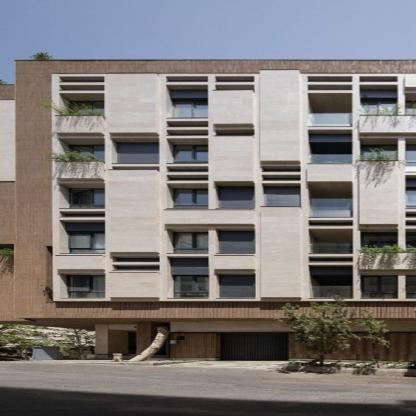Building Outline: (0, 60, 416, 361)
Door: (221, 333, 289, 361)
Facade: (0, 85, 416, 361)
Floor: (0, 170, 416, 217), (0, 221, 416, 262), (0, 266, 416, 302), (0, 131, 416, 167)
Floor Slab: (0, 302, 416, 306), (0, 262, 416, 266), (0, 217, 416, 221), (0, 127, 416, 131), (0, 167, 416, 171)
Ground Floor: (94, 306, 416, 361)
Pillar: (136, 321, 152, 355), (94, 324, 108, 354)
Top Floor: (15, 60, 416, 126)
Window: (309, 229, 353, 253), (311, 276, 354, 299), (309, 142, 353, 163), (66, 275, 105, 298), (117, 143, 159, 164), (171, 275, 208, 298), (361, 276, 398, 299), (219, 231, 256, 254), (309, 198, 353, 217), (219, 186, 255, 209), (220, 275, 255, 298), (69, 231, 104, 253), (173, 232, 208, 254), (264, 186, 300, 206), (173, 188, 207, 209), (360, 97, 397, 115), (69, 189, 103, 208), (360, 144, 398, 161), (361, 232, 398, 249), (173, 145, 207, 163), (308, 113, 353, 126), (173, 101, 207, 117), (69, 101, 103, 117), (69, 145, 103, 161)
Window Hole: (167, 256, 208, 298), (308, 182, 353, 217), (308, 93, 353, 127), (309, 265, 354, 299), (59, 220, 105, 253), (309, 130, 353, 163), (166, 85, 207, 117), (112, 138, 159, 164), (60, 183, 105, 208), (60, 273, 105, 298), (214, 181, 254, 209), (360, 85, 397, 115), (167, 184, 209, 209), (216, 228, 256, 254), (60, 139, 105, 162), (167, 229, 208, 254), (167, 138, 207, 163), (216, 273, 256, 298), (59, 93, 103, 115), (360, 138, 398, 161), (263, 184, 300, 207), (361, 229, 398, 249)
